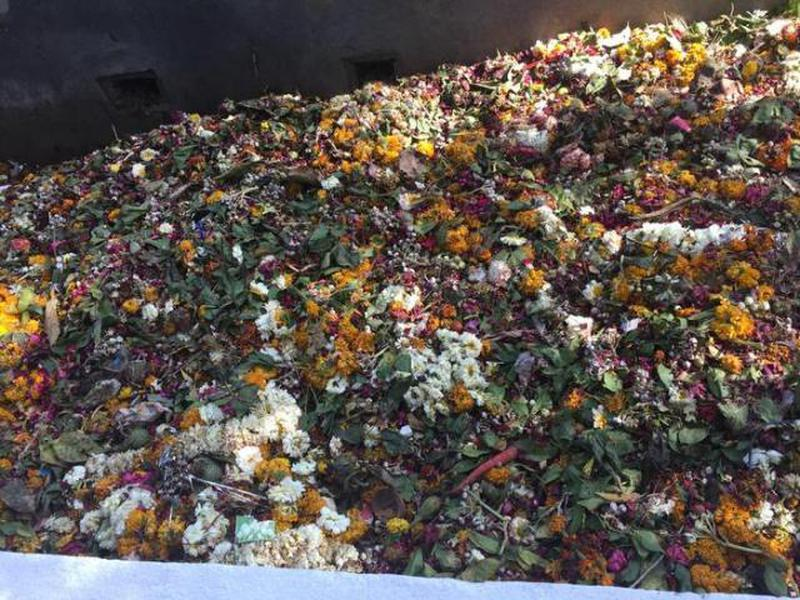flowers: (1, 1, 800, 594), (61, 372, 382, 575)
